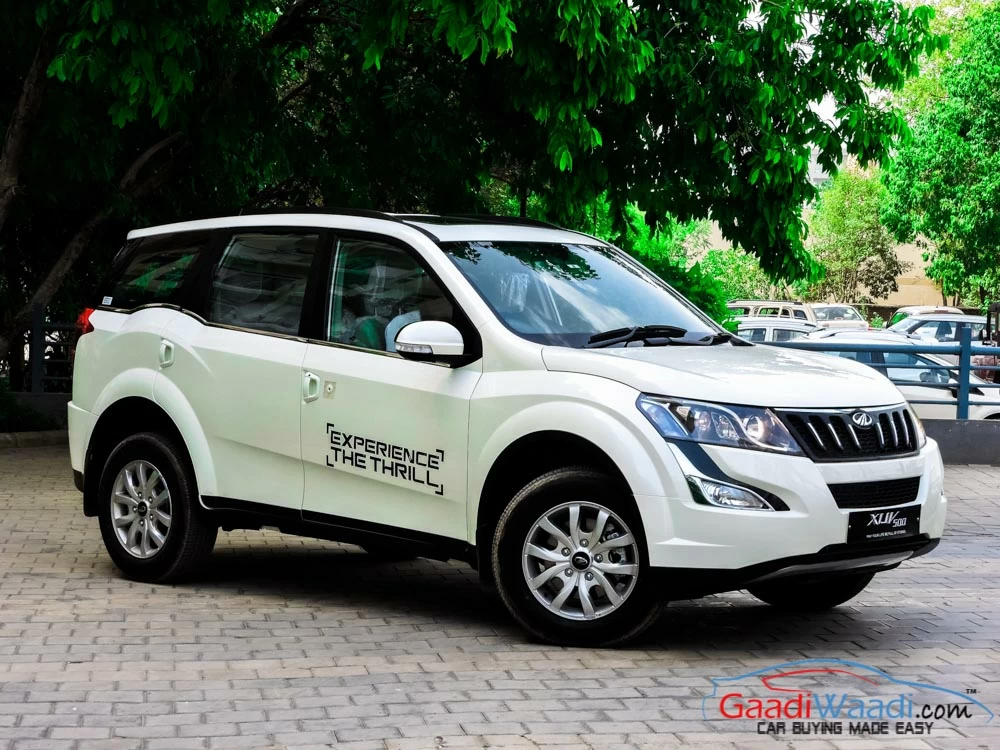car: (55, 194, 981, 653)
